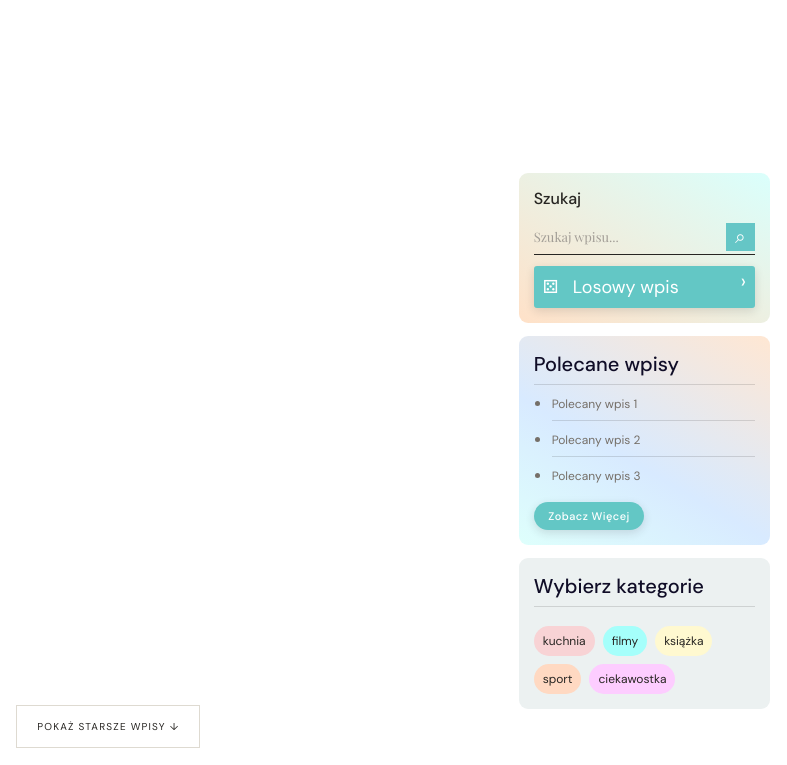
Test case: HomePage › clears the search and resets pagination when recommended posts are requested
Type "Polecany wpis 6" into the field labelled "Szukaj". click: (630, 236)
box: [534, 219, 726, 254]
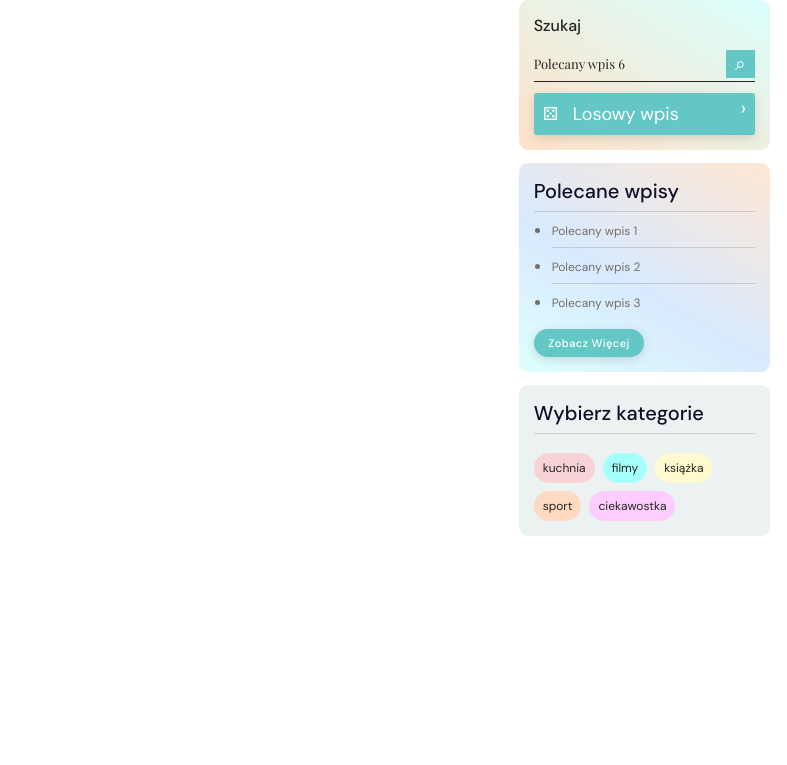
Click the button "Zobacz Więcej". click: (589, 343)
box: [534, 329, 644, 357]
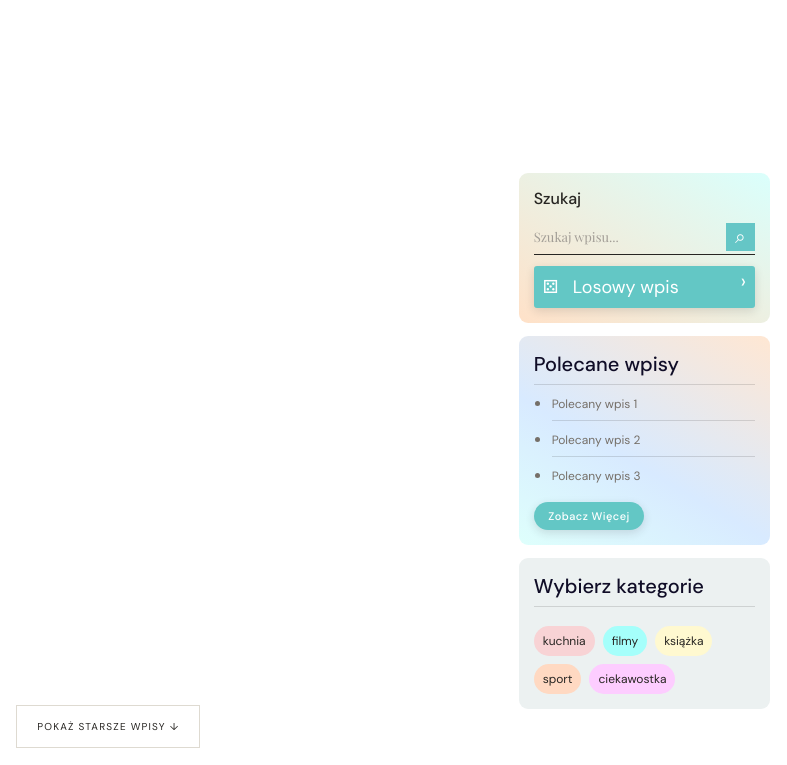
Result: the field labelled "Szukaj" is empty at [534, 219, 726, 254]
